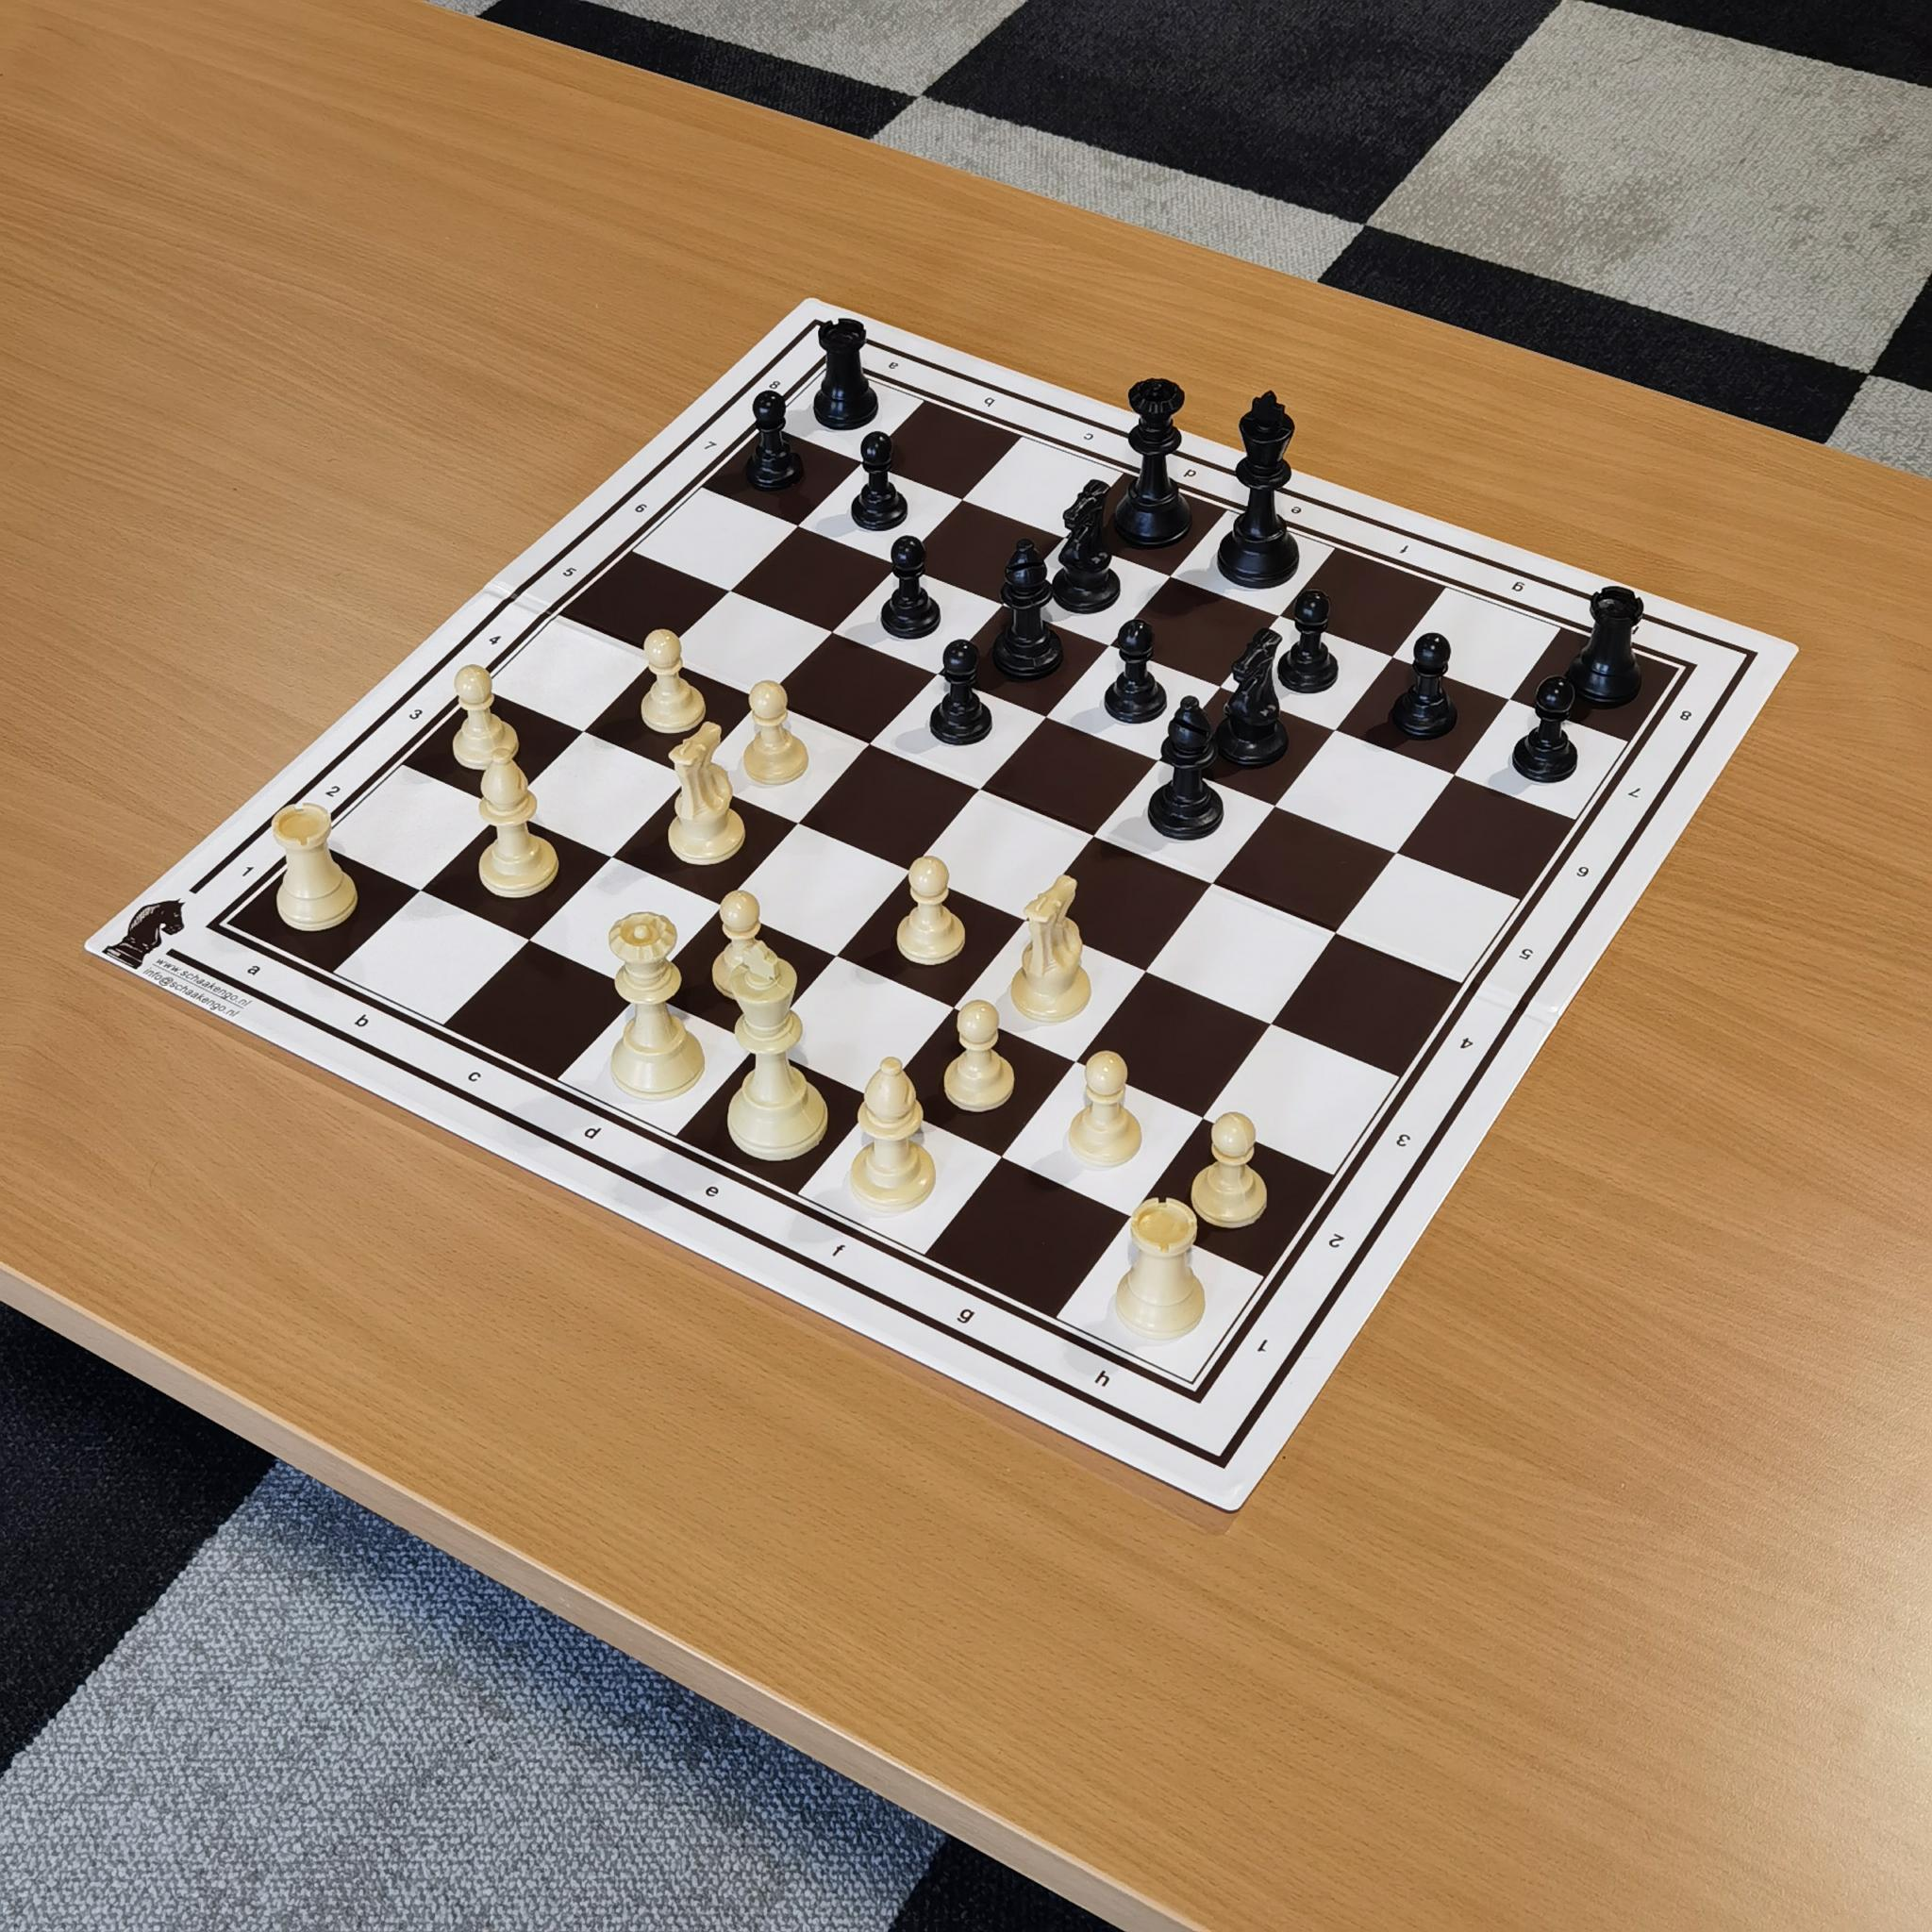corners: (1168, 1363, 1223, 1421), (193, 904, 250, 947), (1662, 653, 1712, 691)
eight: (1668, 694, 1705, 735), (759, 361, 794, 400)
one: (1239, 1319, 1292, 1370), (225, 849, 275, 891)
